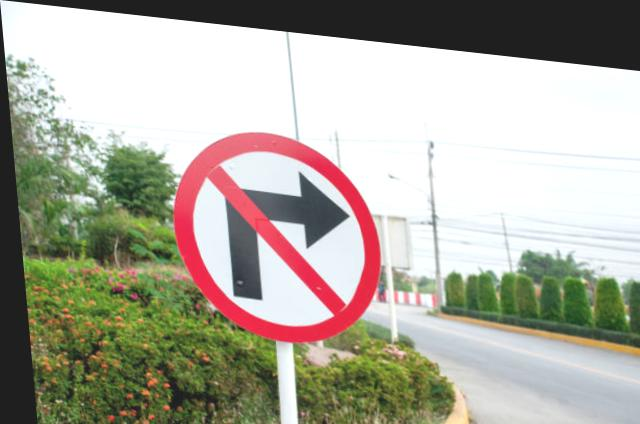not_turn_right: (162, 108, 389, 350)
